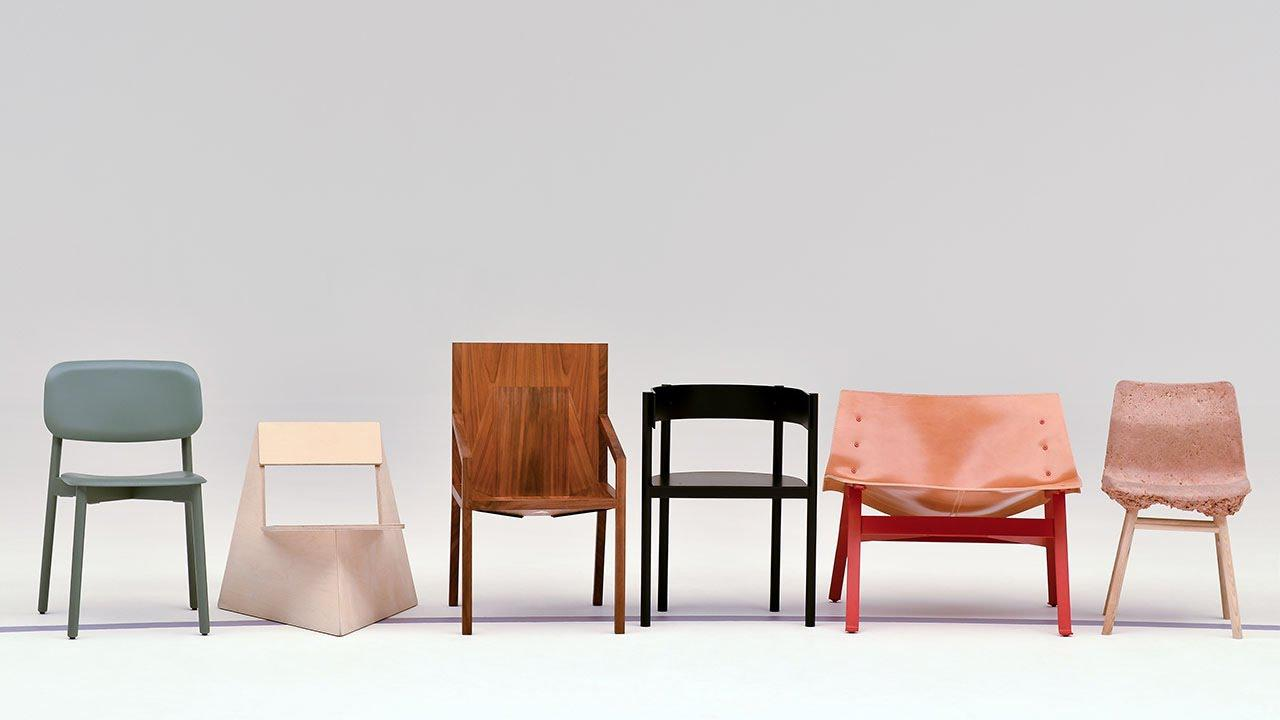chair: (821, 372, 1096, 649), (25, 322, 220, 657), (445, 322, 635, 651), (638, 344, 829, 648), (1079, 358, 1258, 663)
